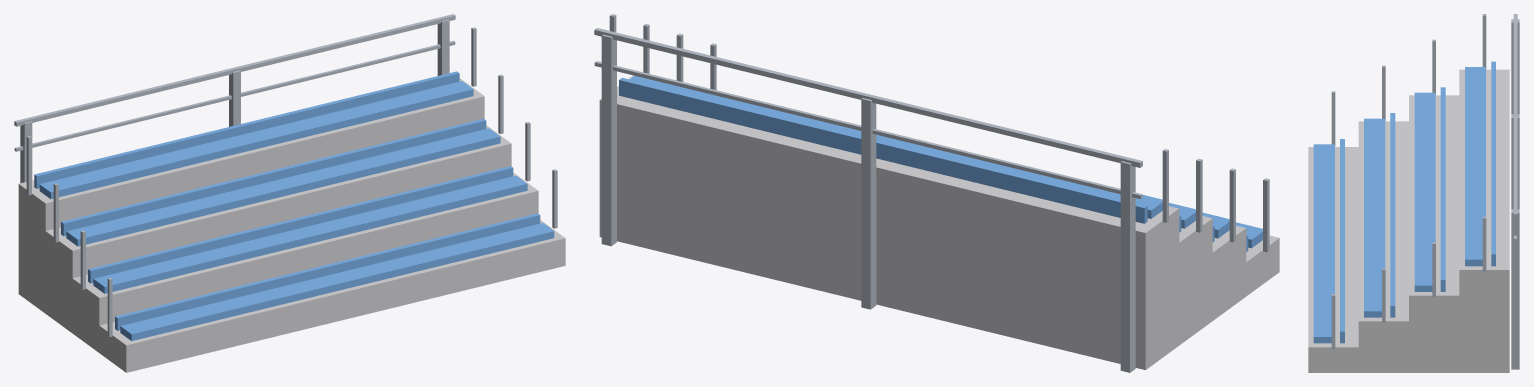
The model's file is arquibancada.glb.
3 views of the same model, side by side, from view 1: azimuth 30°, elevation 25°; view 2: azimuth 150°, elevation 25°; view 3: azimuth 270°, elevation 25° (orthographic). The views are drawn at different scales.
Parts seen in each view (by area): view 1: arquibancada; view 2: arquibancada; view 3: arquibancada.
Part boxes in pixels (<box>): arquibancada: <box>14,14,565,372</box>; arquibancada: <box>594,14,1279,372</box>; arquibancada: <box>1308,14,1519,372</box>.
Size of the model in its own units: 8.16 by 2.96 by 3.57.
